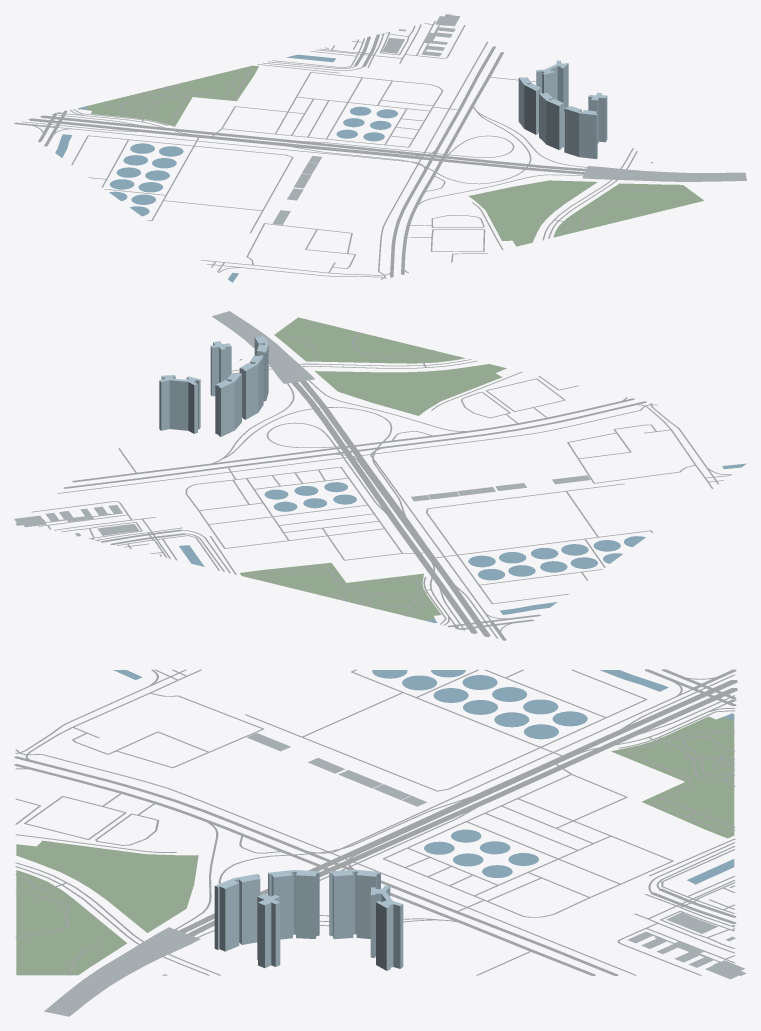
File: -14_-3-known-coarse.glb
3 views of the same model, one above another, from view 1: azimuth 30°, elevation 25°; view 2: azimuth 150°, elevation 25°; view 3: azimuth 270°, elevation 25° (orthographic). The views are drawn at different scales.
Bounding box in the file's own units: 1139 × 96 × 1015.
